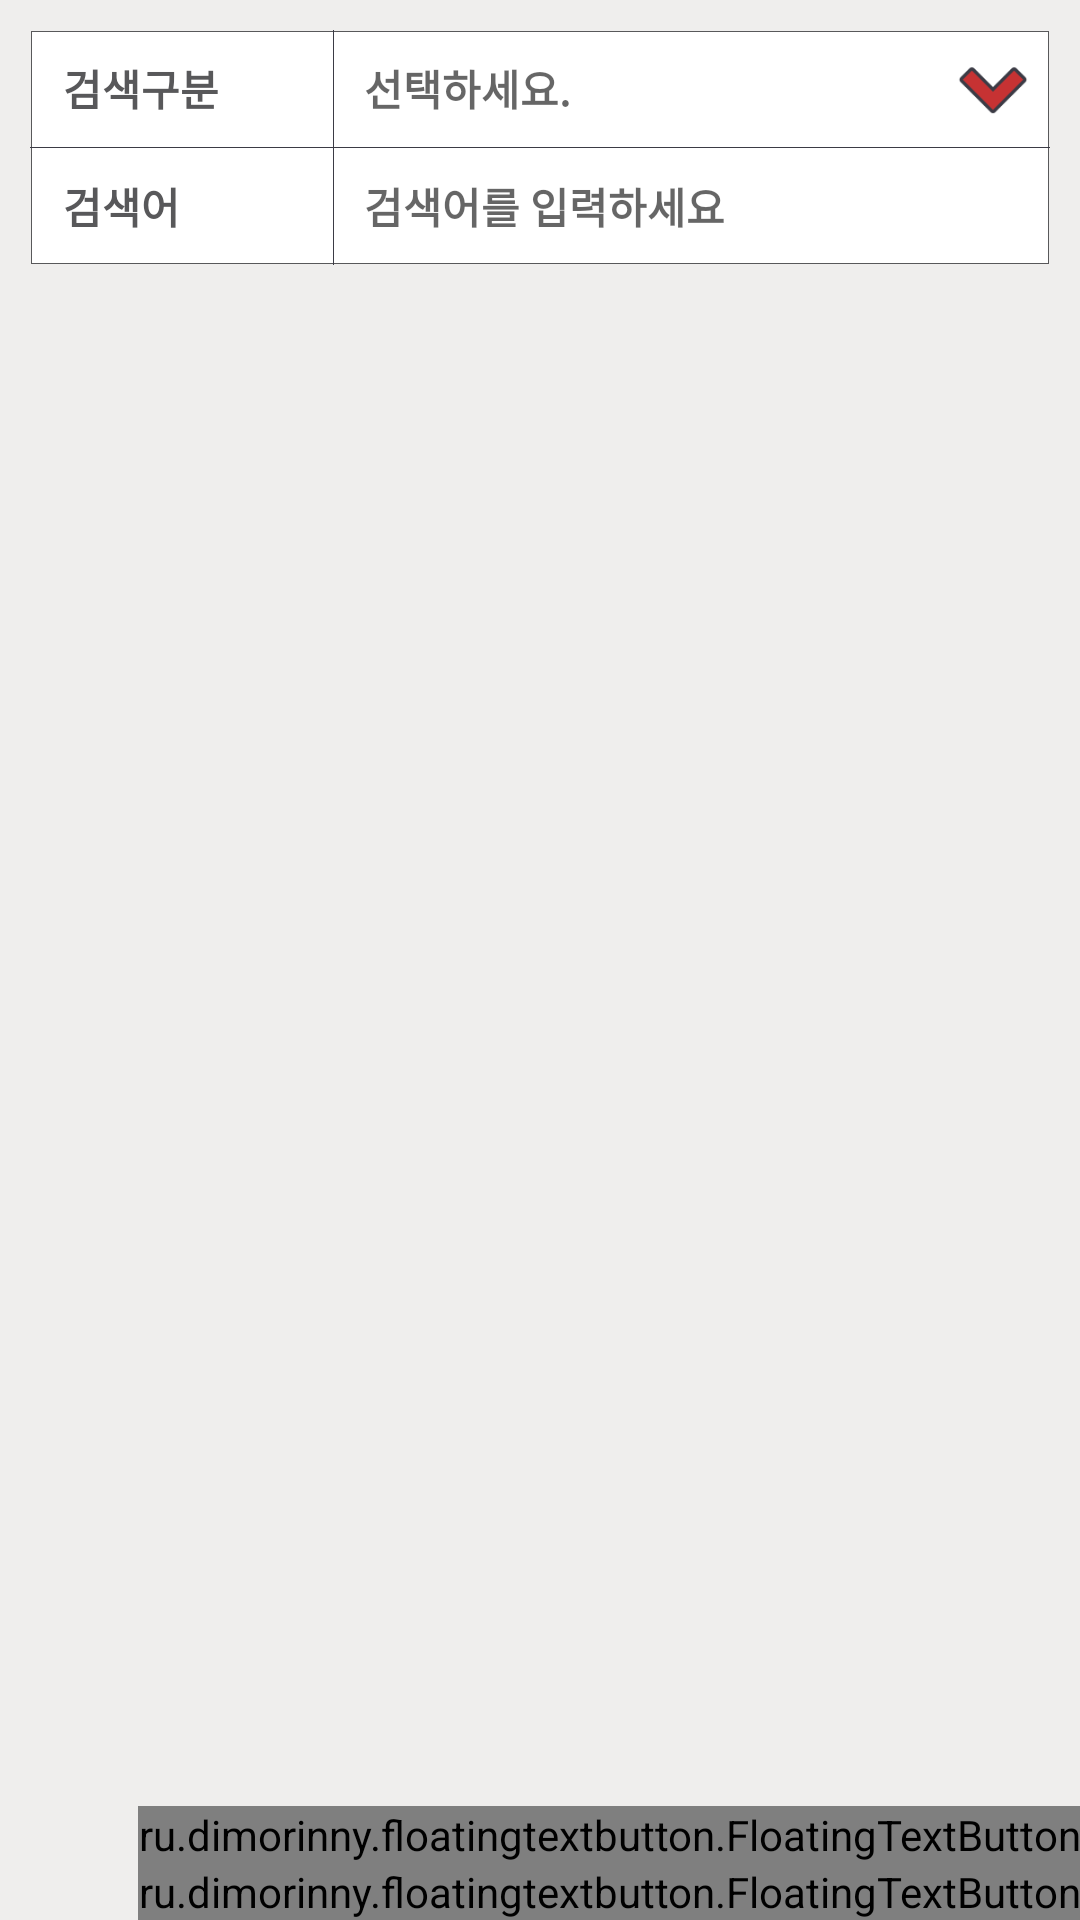

Locate icon controls on the screen. Image size 1080px x 1920px, boxes as rect(x1, y1, x2, y2).
arrow: rect(959, 67, 1027, 114)
